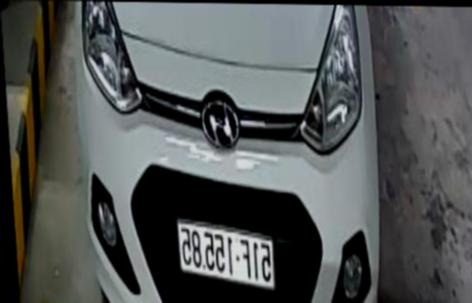License_Plate: (163, 213, 283, 292)
